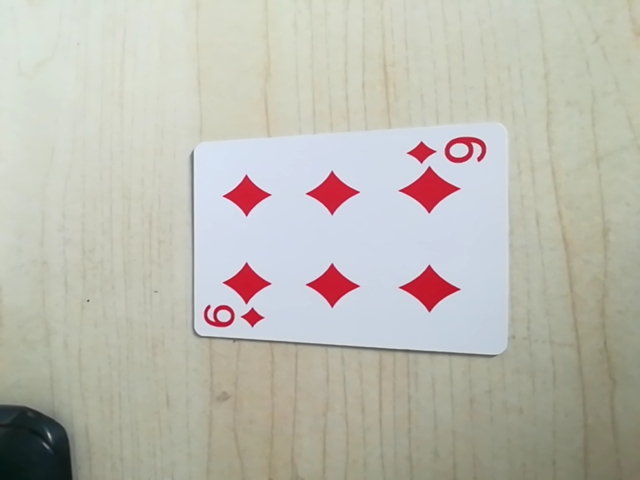fk 6: (403, 128, 494, 171), (200, 300, 265, 334)
